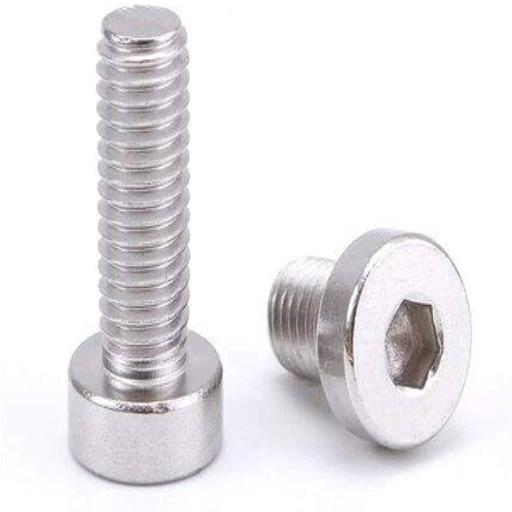Hex-Allen: (318, 225, 472, 454)
